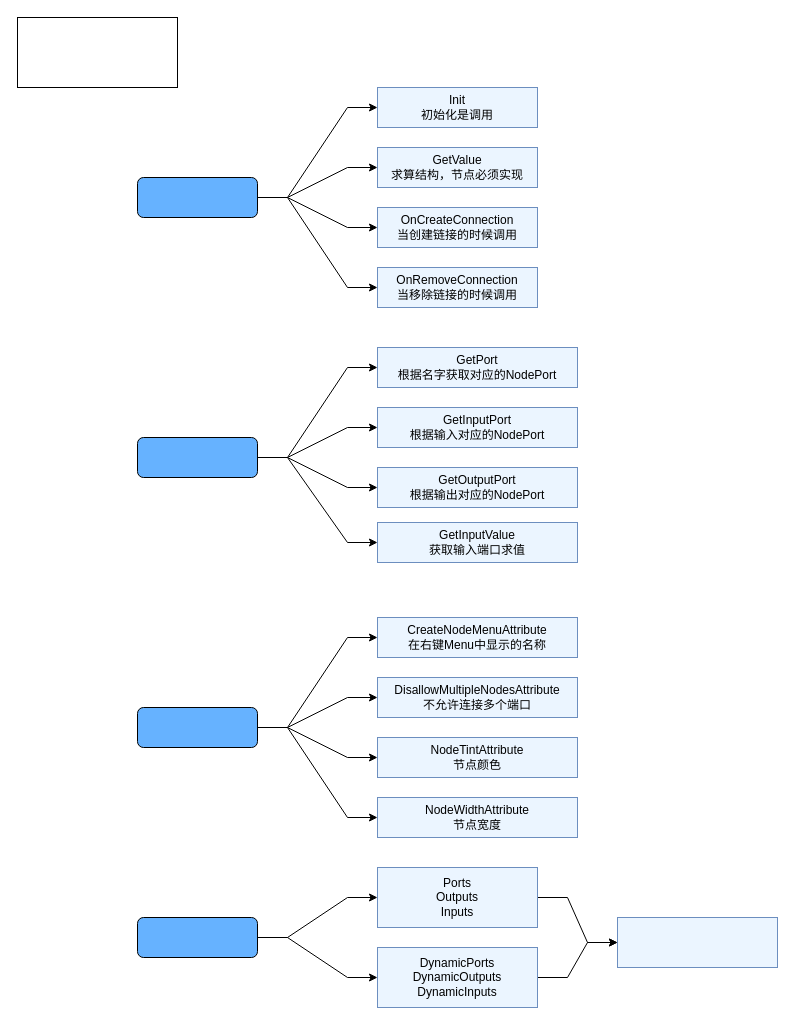
The diagram is 795 pixels wide and 1025 high, and some of its shapes have lost their labels. The box of each missing label's shape, as (x1, y1, x2, y2) in pixels:
Node 节点接口功能表: (16, 16, 178, 88)
NodePortDictionary ports 实际都是去dict里面 遍历筛选: (616, 916, 778, 968)
可重载接口: (136, 176, 258, 218)
属性: (136, 916, 258, 958)
注解: (136, 706, 258, 748)
重要方法: (136, 436, 258, 478)
